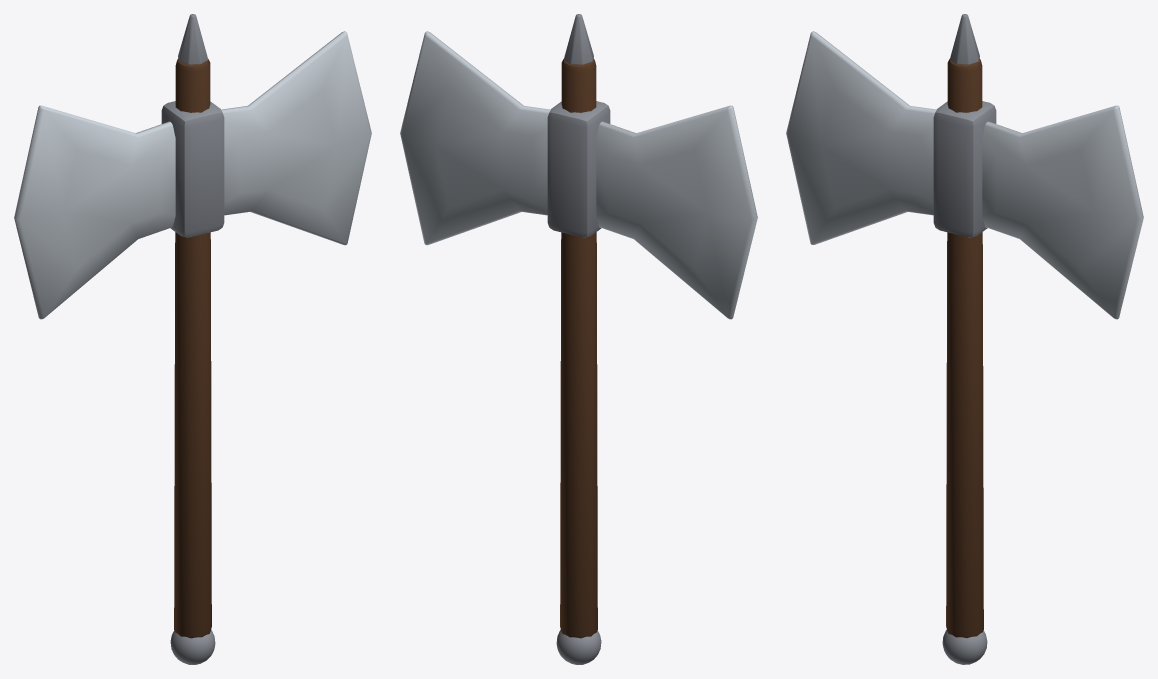
File: greataxe.glb
The picture shows the model from 3 angles, left to right: view 1: azimuth 30°, elevation 25°; view 2: azimuth 150°, elevation 25°; view 3: azimuth 330°, elevation 25°; orthographic projection.
Parts seen in each view (by area): view 1: wpn_greataxe; view 2: wpn_greataxe; view 3: wpn_greataxe.
Boxes of the visible parts, x1,y1,x2,y2 form: wpn_greataxe: [14, 14, 371, 664]; wpn_greataxe: [400, 14, 757, 664]; wpn_greataxe: [786, 14, 1143, 664].
Size of the model in its own units: 1.28 by 2.22 by 0.16.
